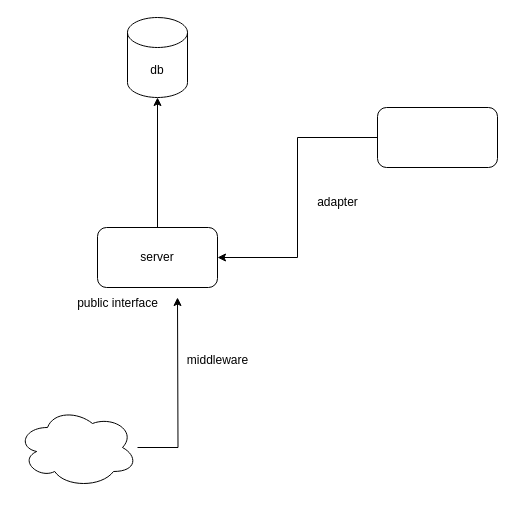
This 515x505 diagram has some shape labels left out. The shapes that lost their labels are listed below. From the top down, each one's centre as x and y in pixels, then its label:
At point (437, 137): "grpc-gis-connector service".
At point (77, 447): "clients".
